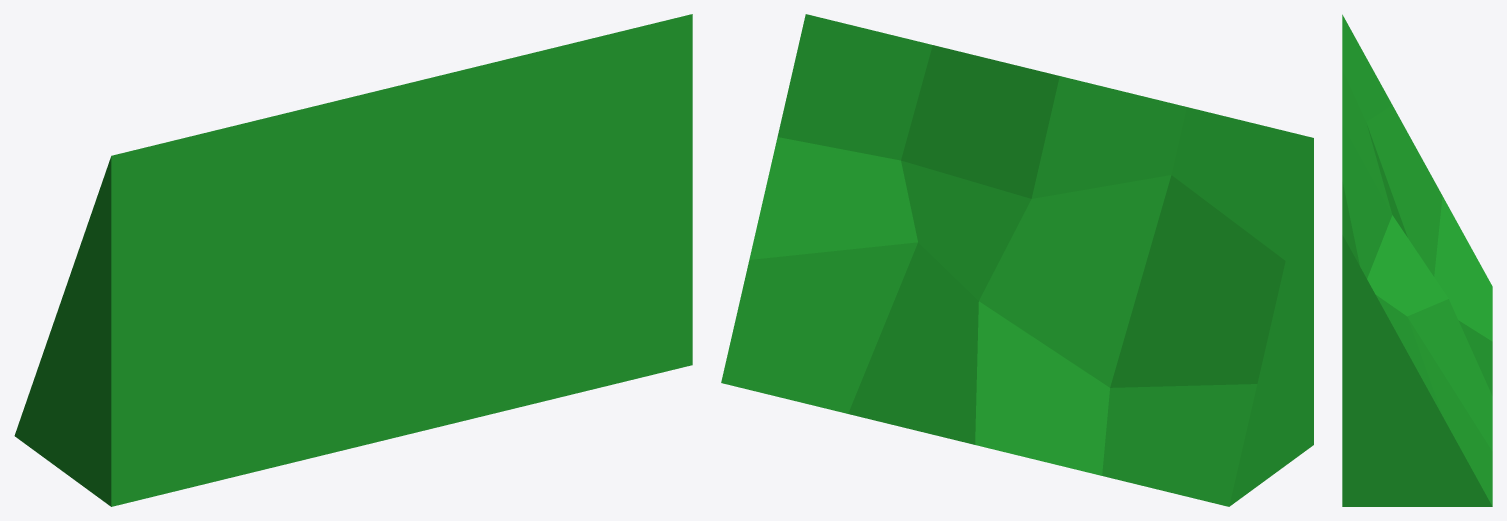
The model's file is module-edge_land_cliff_left_001.glb.
3 renders of one model, left to right at view 1: azimuth 30°, elevation 25°; view 2: azimuth 150°, elevation 25°; view 3: azimuth 270°, elevation 25°, orthographic. The views are drawn at different scales.
Parts seen in each view (by area): view 1: module-edge_land_cliff_left_001; view 2: module-edge_land_cliff_left_001; view 3: module-edge_land_cliff_left_001.
Boxes of the visible parts, x1,y1,x2,y2 form: module-edge_land_cliff_left_001: (14,14,692,506); module-edge_land_cliff_left_001: (721,14,1313,506); module-edge_land_cliff_left_001: (1342,14,1492,506).
Size of the model in its own units: 0.866 by 0.5 by 0.25.
